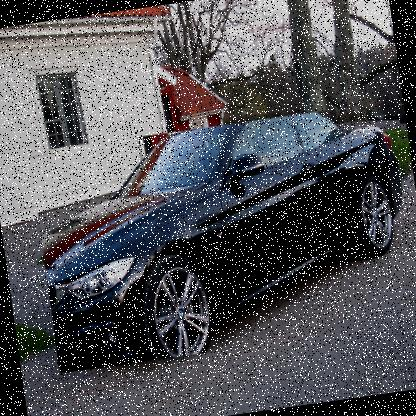Car: (29, 100, 415, 374)
